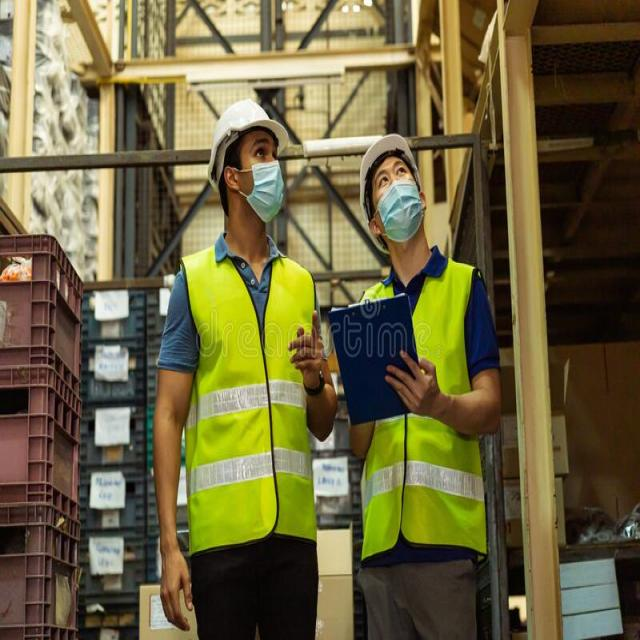Reflective-Jacket: (178, 242, 322, 560), (354, 260, 496, 560)
Safety-Helmet: (356, 124, 426, 234), (204, 94, 288, 167)
